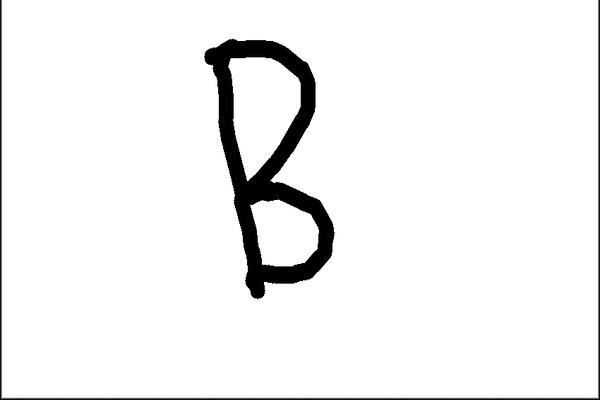B: (195, 28, 348, 306)
